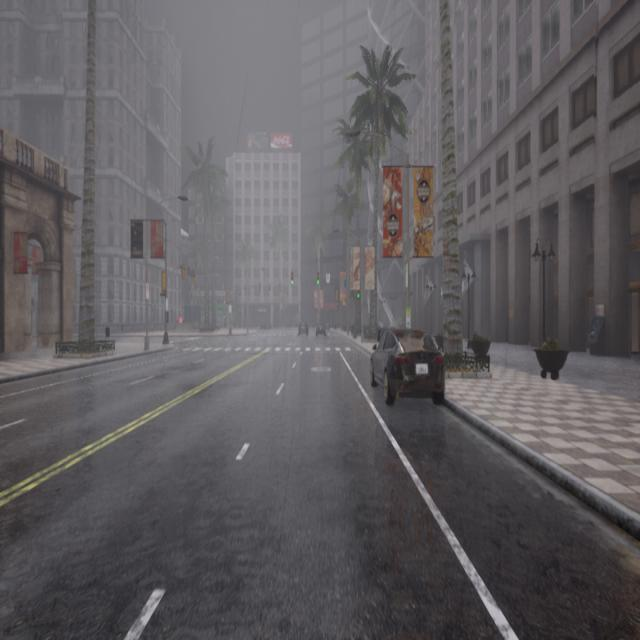bien_chi_dan: (290, 278, 295, 288), (316, 280, 321, 287), (356, 292, 360, 300)
bien_nguy_hiem: (314, 269, 324, 291), (353, 283, 362, 305), (289, 269, 296, 289)
